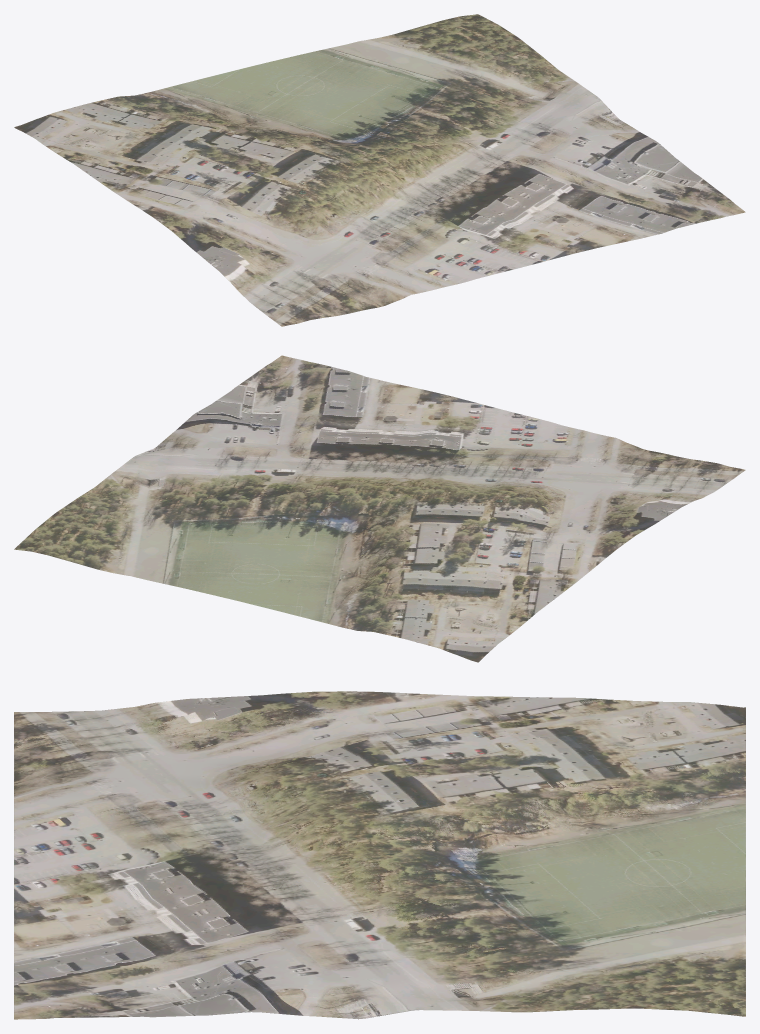
File: CM_Terrain_24491482_6815084.fbx
3 renders of one model, top to bottom at view 1: azimuth 30°, elevation 25°; view 2: azimuth 150°, elevation 25°; view 3: azimuth 270°, elevation 25°, orthographic. The views are drawn at different scales.
Visible parts, largest first — view 1: CM_Terrain_24491482_6815084_LOD0; view 2: CM_Terrain_24491482_6815084_LOD0; view 3: CM_Terrain_24491482_6815084_LOD0.
Boxes of the visible parts, left/top/right/bottom form: CM_Terrain_24491482_6815084_LOD0: left=14, top=14, right=745, bottom=326; CM_Terrain_24491482_6815084_LOD0: left=14, top=355, right=745, bottom=662; CM_Terrain_24491482_6815084_LOD0: left=14, top=691, right=745, bottom=1019.
Size of what is drawn, in the model's own units: 205 by 10.55 by 205.
